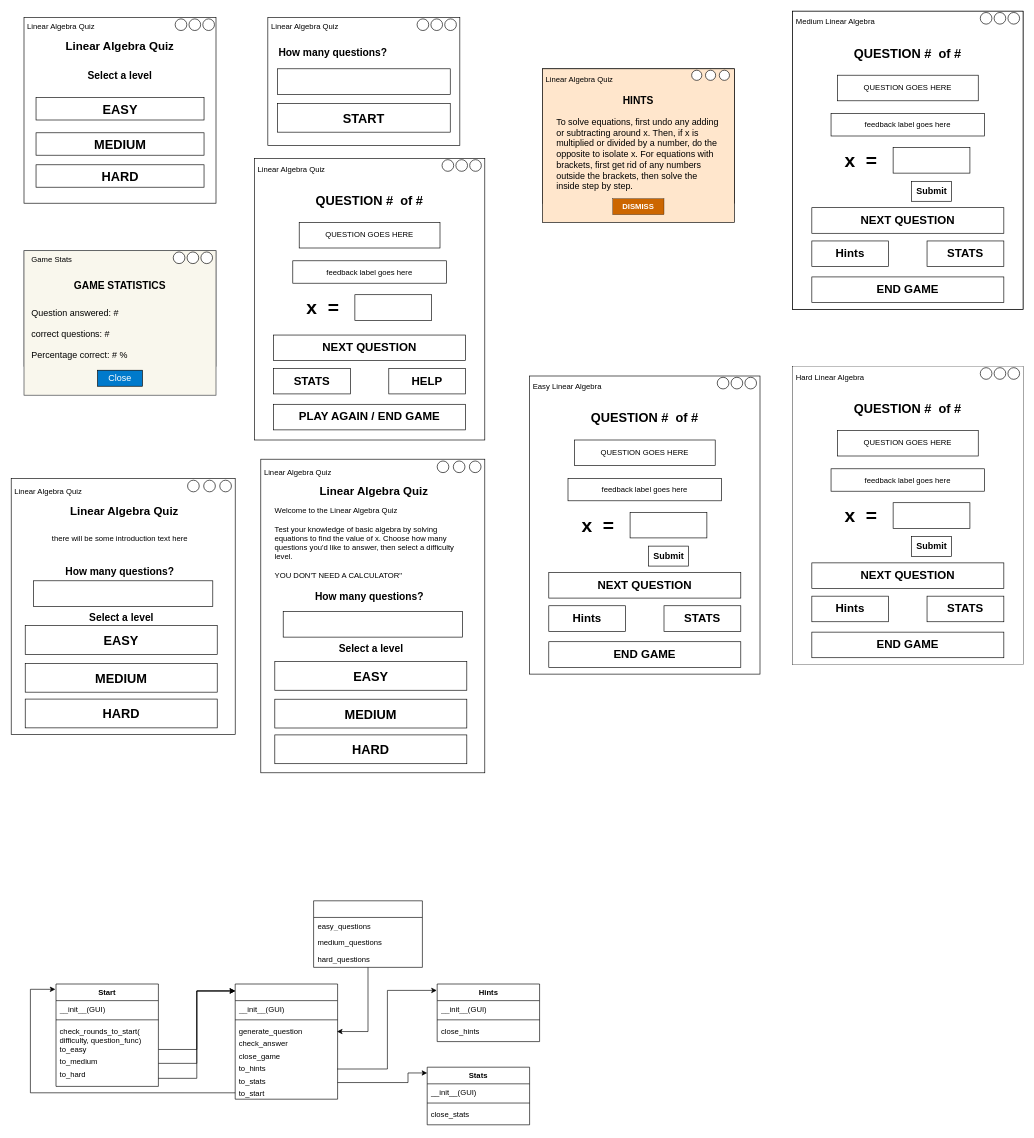
Image size: 1034x1138. Some labels were removed from this diagram. Each missing label, with the box of its shape:
Helper Functions: (313, 900, 422, 967)
Play: (235, 983, 338, 1099)
